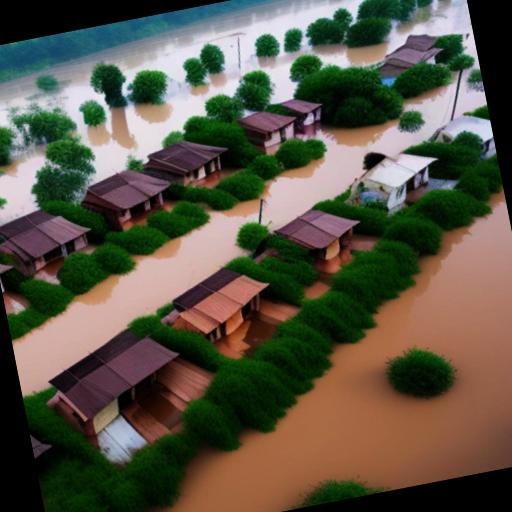flood: (299, 191, 512, 491), (12, 200, 259, 395), (150, 378, 441, 512), (261, 82, 455, 230), (0, 47, 212, 182), (126, 0, 359, 102), (301, 0, 476, 65), (216, 306, 292, 359), (123, 400, 180, 443), (458, 77, 487, 115), (32, 259, 62, 284), (155, 387, 186, 410), (122, 210, 155, 230), (2, 291, 29, 315), (201, 169, 235, 188), (305, 274, 329, 299), (179, 380, 207, 398), (351, 234, 379, 251), (299, 123, 321, 138), (410, 186, 427, 194), (164, 200, 175, 209)
house: (34, 314, 194, 450), (154, 256, 280, 358), (0, 196, 99, 287), (74, 160, 180, 242), (268, 194, 370, 278), (346, 144, 445, 218), (138, 130, 234, 196), (366, 27, 448, 93), (432, 108, 498, 172), (235, 103, 302, 155), (24, 400, 60, 476), (276, 88, 331, 133), (0, 244, 19, 301)
